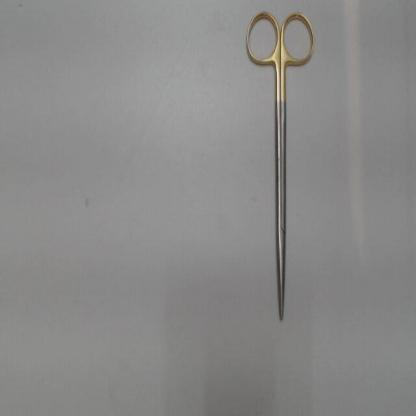7 Metzenbaum Scissors: (244, 10, 316, 321)
